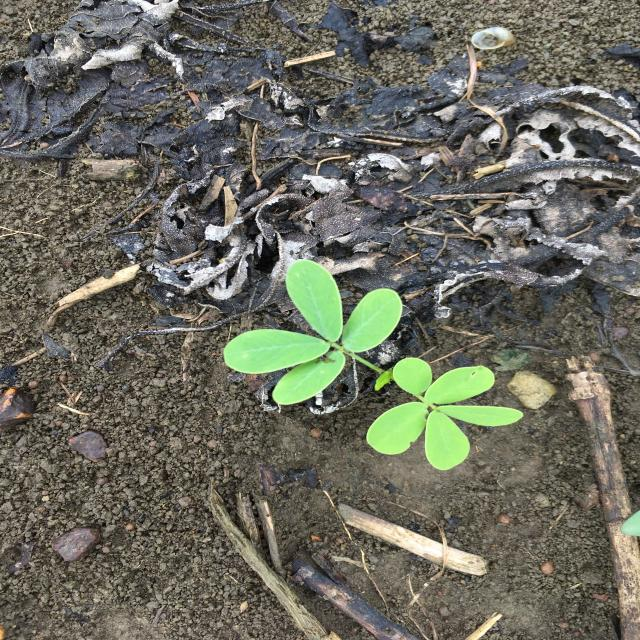Sicklepod: (223, 259, 524, 471)
